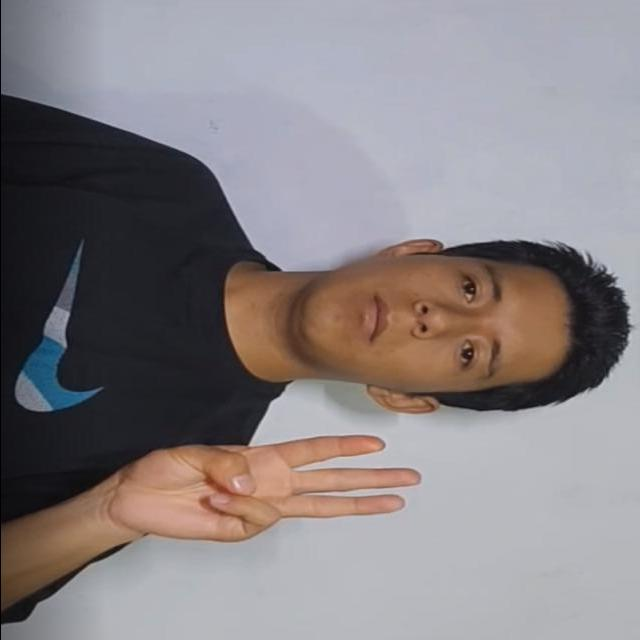W: (90, 416, 432, 568)
